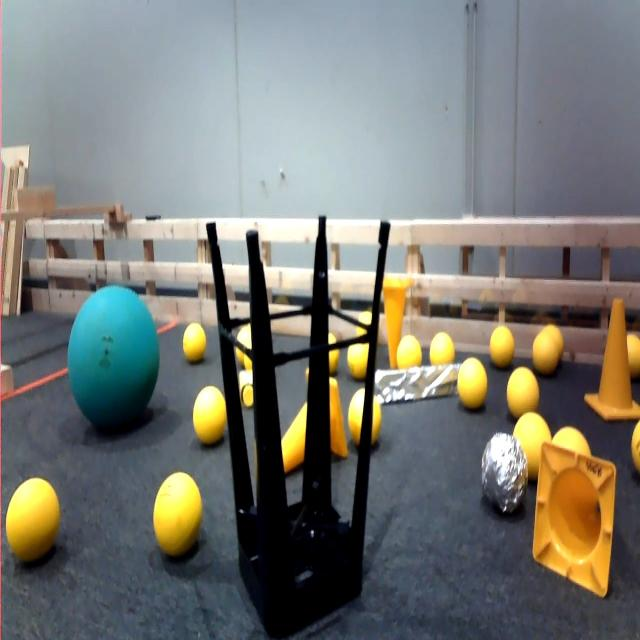fuel: (149, 464, 210, 564), (4, 471, 64, 563), (507, 406, 553, 478), (346, 371, 381, 454), (453, 348, 496, 412), (193, 381, 231, 448), (552, 416, 592, 465), (510, 358, 542, 419), (346, 330, 378, 383), (183, 315, 211, 367), (486, 319, 516, 366), (394, 333, 426, 376), (428, 332, 464, 368), (532, 330, 560, 376), (319, 334, 341, 379), (546, 320, 572, 356), (620, 331, 640, 377), (353, 303, 380, 337), (627, 408, 640, 477), (240, 333, 258, 368), (237, 327, 245, 358)
